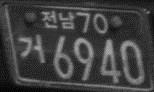0: (119, 40, 145, 86), (93, 13, 108, 35)
4: (98, 38, 120, 85)
6: (53, 34, 74, 81)
7: (76, 11, 90, 33)
9: (75, 36, 95, 82)
거: (18, 33, 46, 65)
전남_O: (40, 9, 75, 30)
